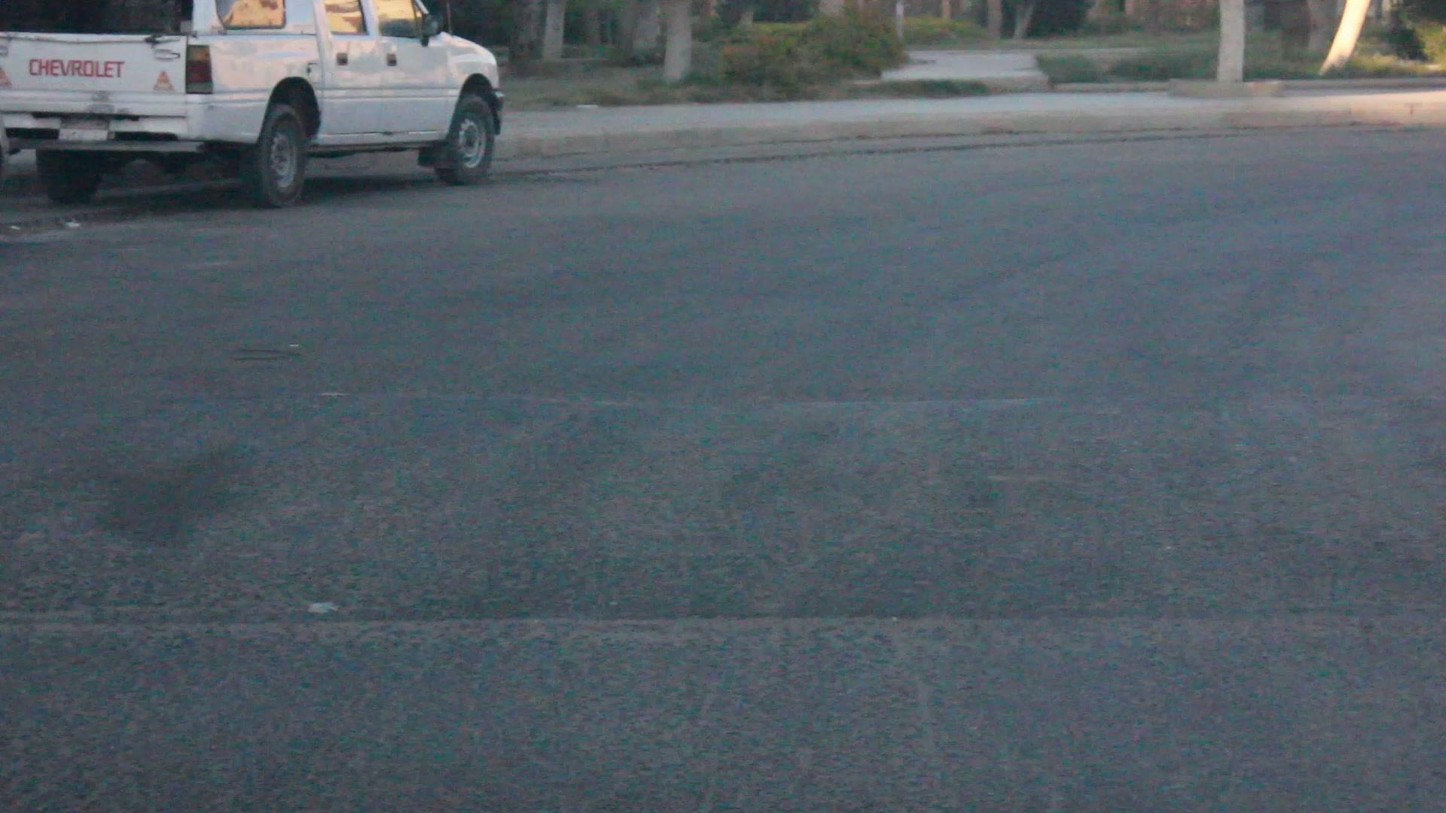Bump: (0, 375, 1445, 621)
